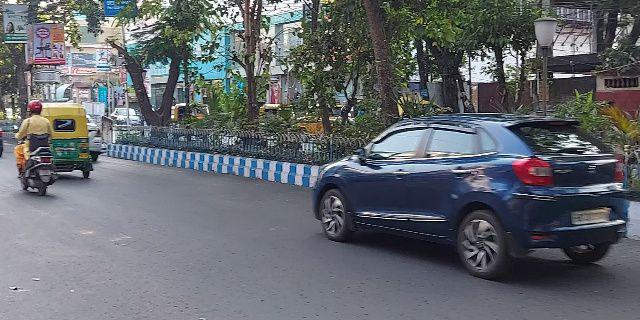Autorickshaw: (37, 101, 96, 185)
Car: (307, 110, 631, 284)
Motorbike: (12, 101, 59, 199)
